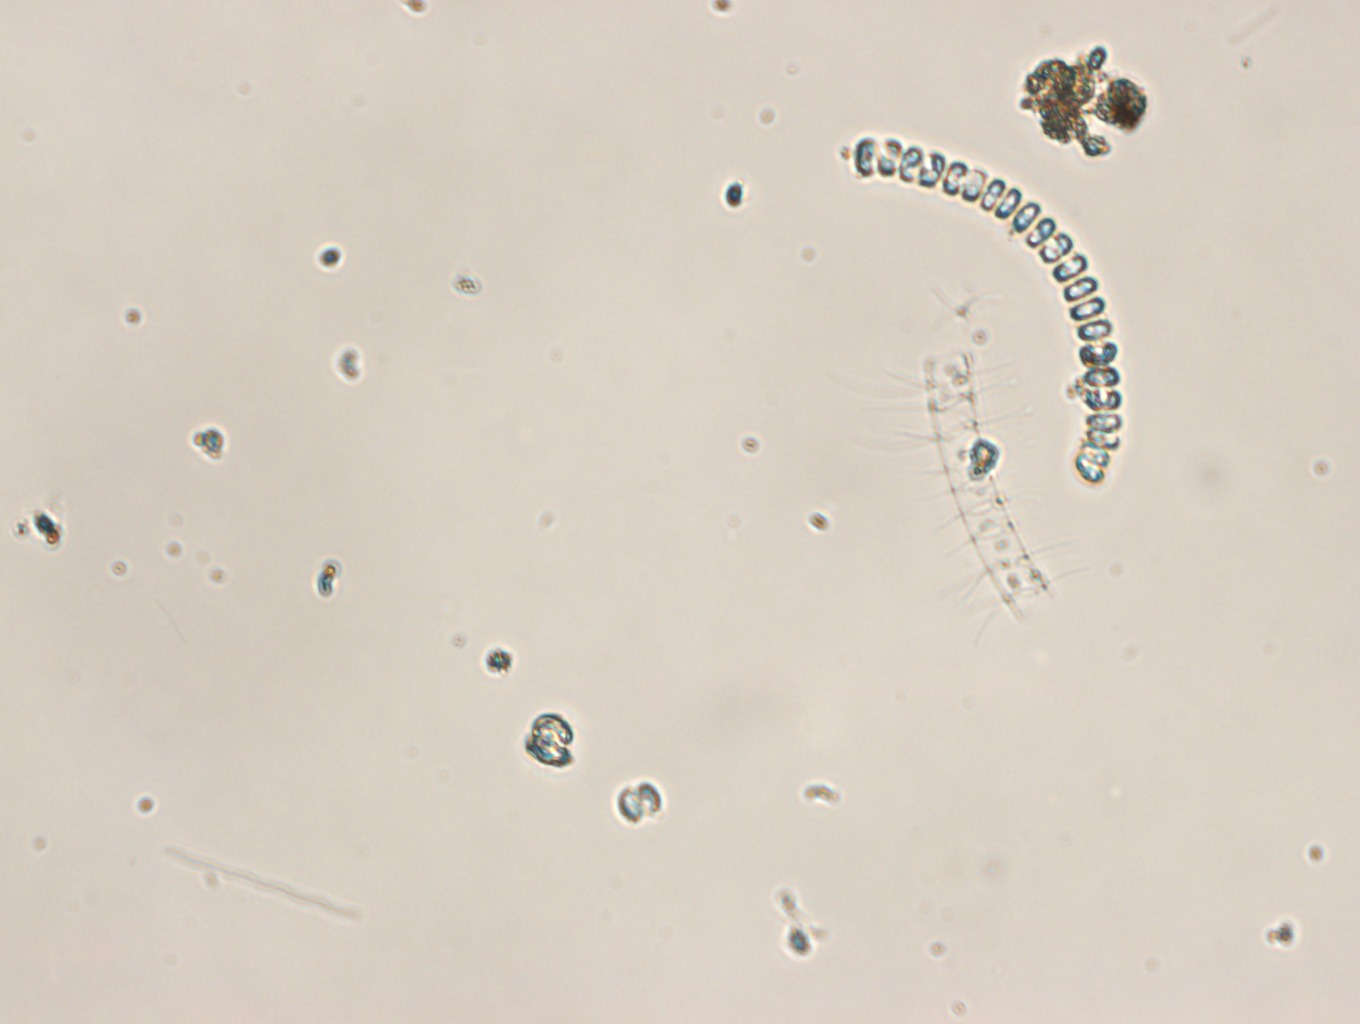chaetoceros: (864, 335, 1107, 653)
skeletonema: (850, 132, 1126, 484)
